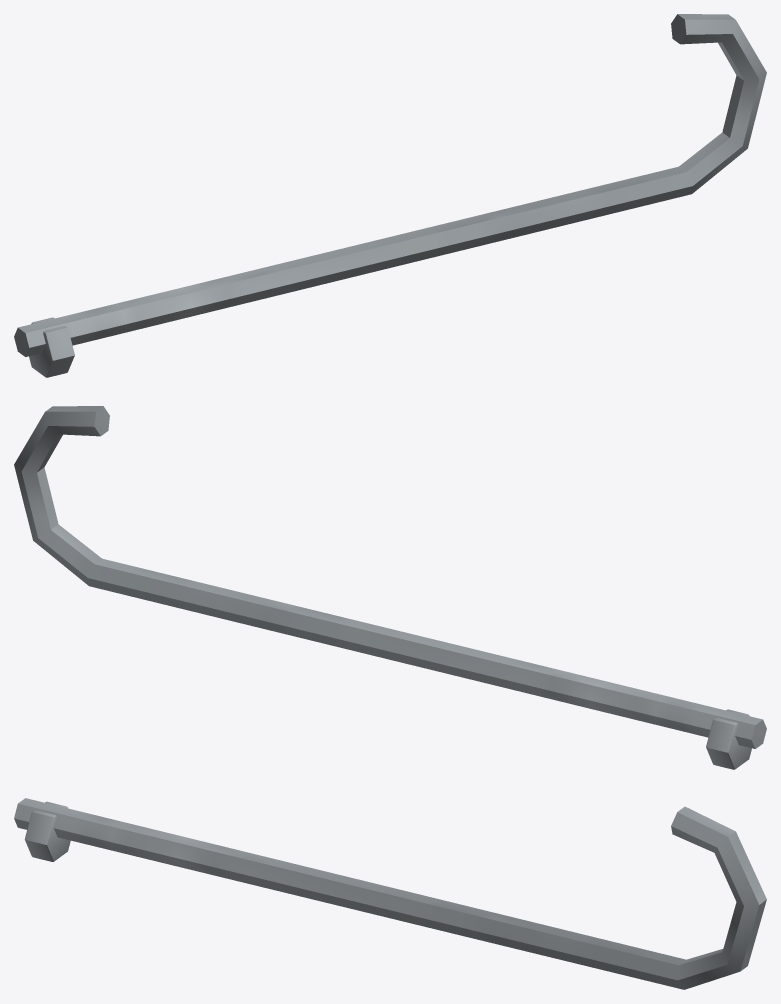
File: COB-ACS-003_lod1.glb
3 views of the same model, one above another, from view 1: azimuth 30°, elevation 25°; view 2: azimuth 150°, elevation 25°; view 3: azimuth 330°, elevation 25° (orthographic).
Visible parts, largest first — view 1: COB-ACS-003_haste, COB-ACS-003_porca; view 2: COB-ACS-003_haste, COB-ACS-003_porca; view 3: COB-ACS-003_haste, COB-ACS-003_porca.
Boxes of the visible parts, x1,y1,x2,y2 form: COB-ACS-003_haste: [14, 14, 766, 356]; COB-ACS-003_porca: [29, 317, 74, 377]; COB-ACS-003_haste: [14, 406, 766, 748]; COB-ACS-003_porca: [706, 709, 751, 769]; COB-ACS-003_haste: [14, 798, 766, 989]; COB-ACS-003_porca: [24, 801, 70, 861].
Size of the model in its own units: 0.2234 by 0.0574 by 0.015.
Materials: 1 (1 with a texture image).
